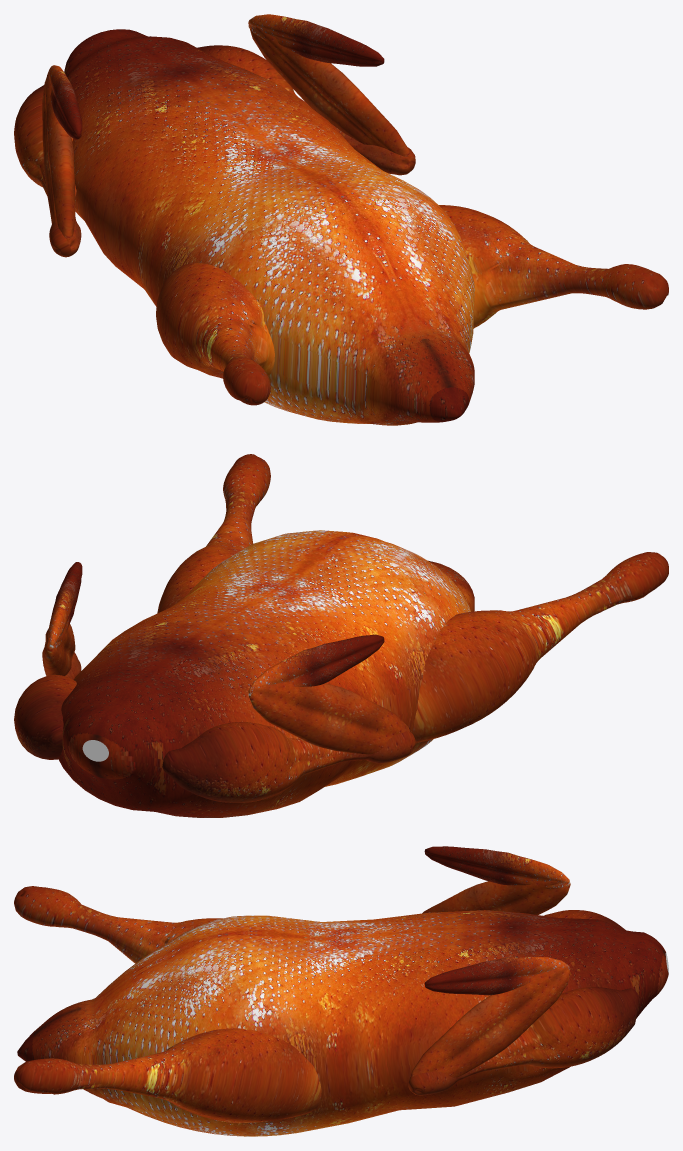
The picture shows the model from 3 angles, top to bottom: view 1: azimuth 30°, elevation 25°; view 2: azimuth 150°, elevation 25°; view 3: azimuth 270°, elevation 25°; orthographic projection. The views are drawn at different scales.
Parts seen in each view (by area): view 1: Roast duck section 18, Roast duck section 7, Roast duck section 6, Roast duck section 12, Roast duck section 9, Roast duck section 15, Roast duck section 8, Roast duck section 14, Roast duck section 11, Roast duck section 13, Roast duck section 10; view 2: Roast duck section 18, Roast duck section 7, Roast duck section 15, Roast duck section 6, Roast duck section 10, Roast duck section 14, Roast duck section 13, Roast duck section 11, Roast duck section 12, Roast duck section 8; view 3: Roast duck section 18, Roast duck section 6, Roast duck section 14, Roast duck section 7, Roast duck section 8, Roast duck section 13, Roast duck section 9, Roast duck section 12, Roast duck section 10, Roast duck section 11, Roast duck section 15.
Boxes of the visible parts, x1=… form: Roast duck section 18: x1=64, y1=29, x2=474, y2=425; Roast duck section 7: x1=156, y1=262, x2=274, y2=405; Roast duck section 6: x1=439, y1=205, x2=668, y2=328; Roast duck section 12: x1=248, y1=14, x2=384, y2=66; Roast duck section 9: x1=317, y1=73, x2=410, y2=163; Roast duck section 15: x1=14, y1=85, x2=81, y2=257; Roast duck section 8: x1=250, y1=27, x2=342, y2=112; Roast duck section 14: x1=197, y1=45, x2=415, y2=175; Roast duck section 11: x1=43, y1=142, x2=75, y2=245; Roast duck section 13: x1=48, y1=65, x2=82, y2=139; Roast duck section 10: x1=42, y1=72, x2=73, y2=166; Roast duck section 18: x1=58, y1=530, x2=474, y2=817; Roast duck section 7: x1=412, y1=552, x2=668, y2=742; Roast duck section 15: x1=162, y1=722, x2=415, y2=802; Roast duck section 6: x1=157, y1=454, x2=270, y2=613; Roast duck section 10: x1=249, y1=682, x2=344, y2=747; Roast duck section 14: x1=14, y1=652, x2=81, y2=759; Roast duck section 13: x1=248, y1=634, x2=384, y2=697; Roast duck section 11: x1=323, y1=687, x2=409, y2=754; Roast duck section 12: x1=48, y1=562, x2=82, y2=649; Roast duck section 8: x1=42, y1=624, x2=73, y2=675; Roast duck section 18: x1=17, y1=910, x2=668, y2=1136; Roast duck section 6: x1=14, y1=1028, x2=321, y2=1123; Roast duck section 14: x1=408, y1=987, x2=639, y2=1095; Roast duck section 7: x1=14, y1=886, x2=222, y2=963; Roast duck section 8: x1=475, y1=966, x2=570, y2=1048; Roast duck section 13: x1=424, y1=846, x2=569, y2=888; Roast duck section 9: x1=410, y1=1006, x2=504, y2=1078; Roast duck section 12: x1=424, y1=957, x2=569, y2=995; Roast duck section 10: x1=475, y1=880, x2=570, y2=914; Roast duck section 11: x1=422, y1=885, x2=483, y2=913; Roast duck section 15: x1=544, y1=910, x2=625, y2=930.
Bounding box in the file's own units: 0.1174 × 0.0623 × 0.1722.
Materials: 4 (2 with a texture image).
